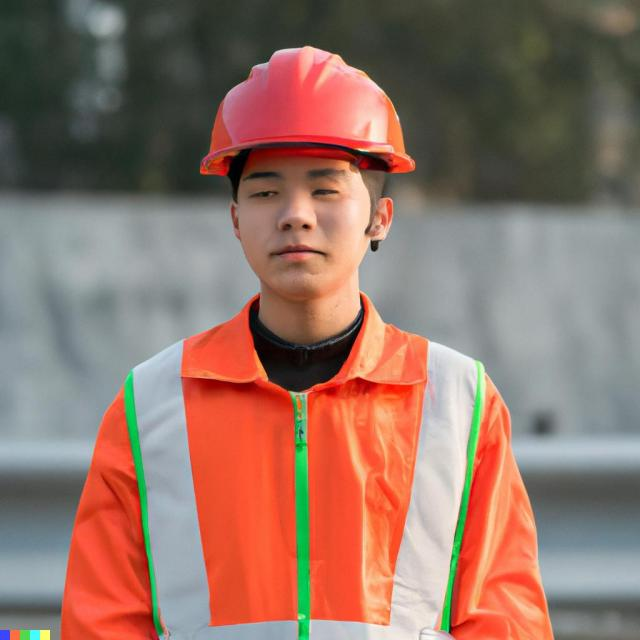Reflective-Jacket: (87, 306, 533, 636)
Safety-Helmet: (197, 44, 417, 178)
